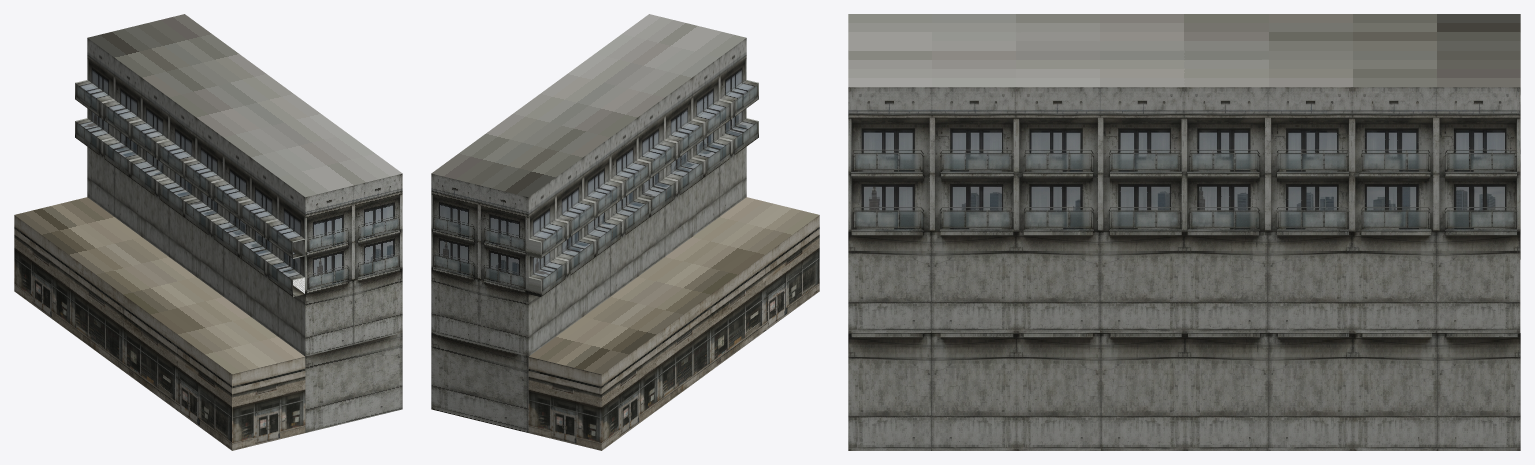
Rendered from store_02.gltf.
3 renders of one model, left to right at view 1: azimuth 30°, elevation 25°; view 2: azimuth 150°, elevation 25°; view 3: azimuth 270°, elevation 25°, orthographic. The views are drawn at different scales.
Parts seen in each view (by area): view 1: mesh (×3); view 2: mesh (×3); view 3: mesh (×2).
Part boxes in pixels (x1,y1,x2,y2): mesh (×3): (14,14,402,450); mesh (×3): (431,14,819,450); mesh (×2): (848,14,1520,450).
Bounding box in the file's own units: 1.75 × 2.31 × 3.88.
3 materials, 2 textured.
